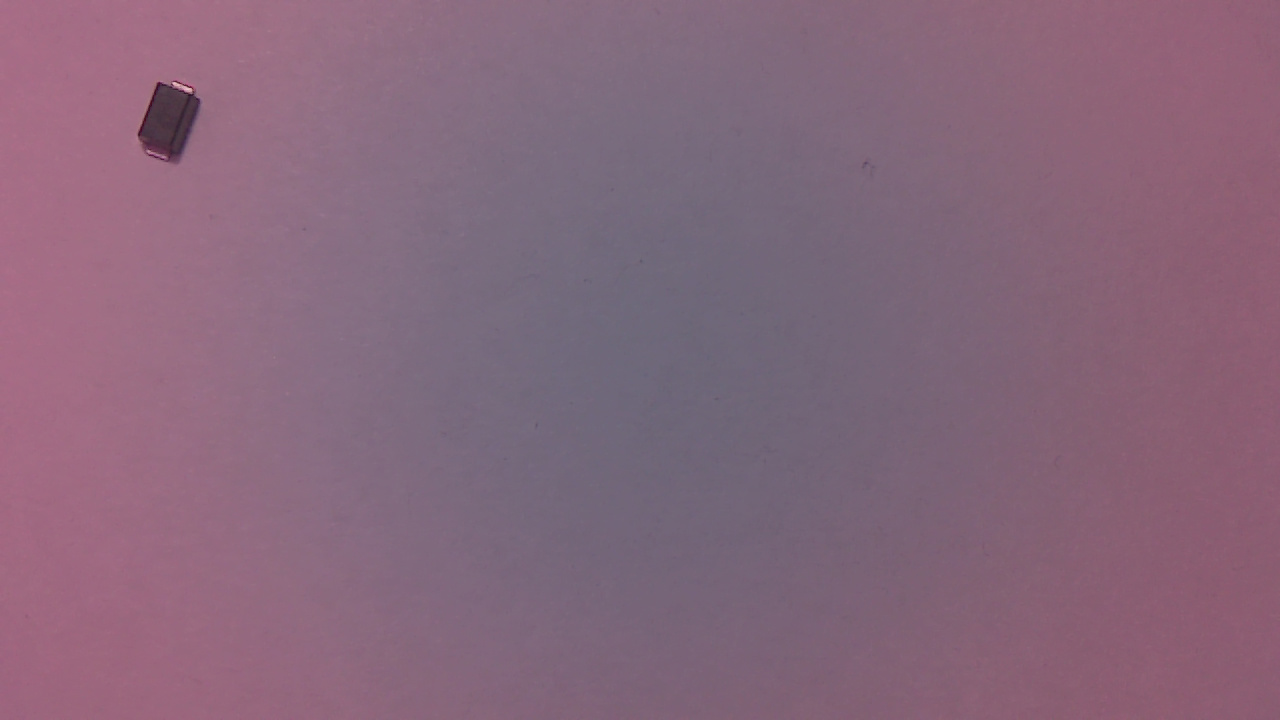Diode: (143, 82, 208, 169)
